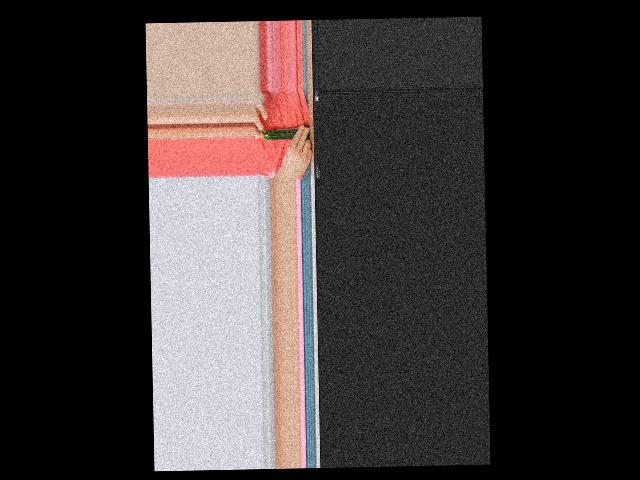cucumber: (263, 128, 298, 140)
